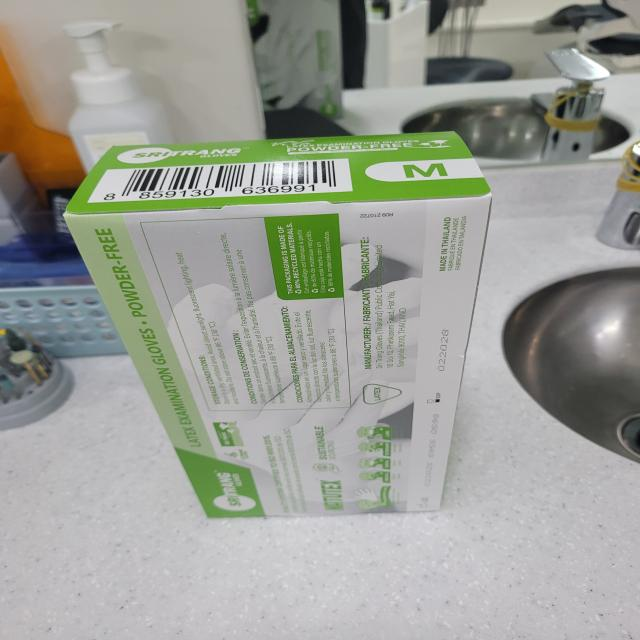glove: (47, 124, 520, 536)
